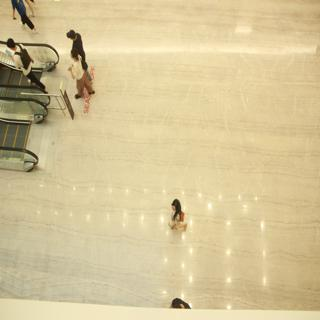person: (4, 33, 44, 88), (62, 49, 101, 101), (160, 190, 189, 246), (66, 26, 94, 71)
